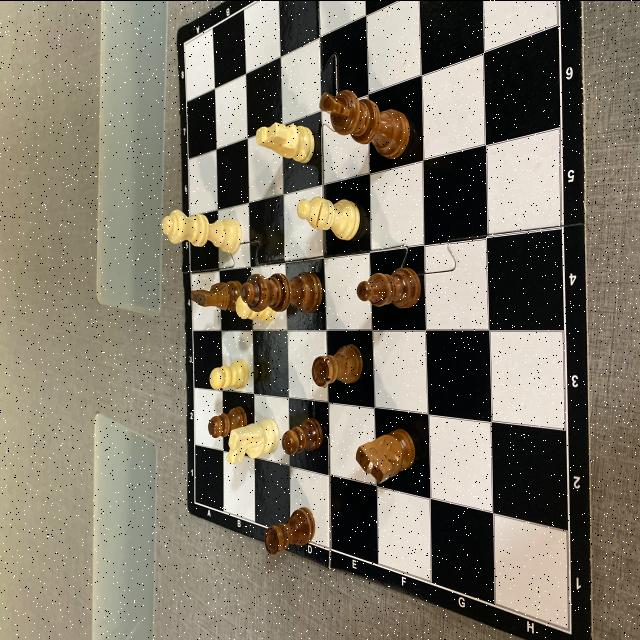Black-Bishop: (356, 264, 422, 312)
Black-King: (320, 83, 410, 158)
Black-Knight: (356, 426, 418, 484), (190, 278, 242, 312)
Black-Pawn: (281, 420, 323, 454), (208, 406, 251, 436)
Black-Queen: (242, 272, 321, 312)
Black-Rook: (264, 506, 315, 554), (310, 342, 364, 384)
White-Bishop: (296, 190, 360, 238)
White-Knight: (254, 120, 314, 162), (228, 415, 278, 461)
White-Pawn: (210, 360, 250, 390), (234, 292, 276, 320)
White-Queen: (160, 208, 240, 254)
